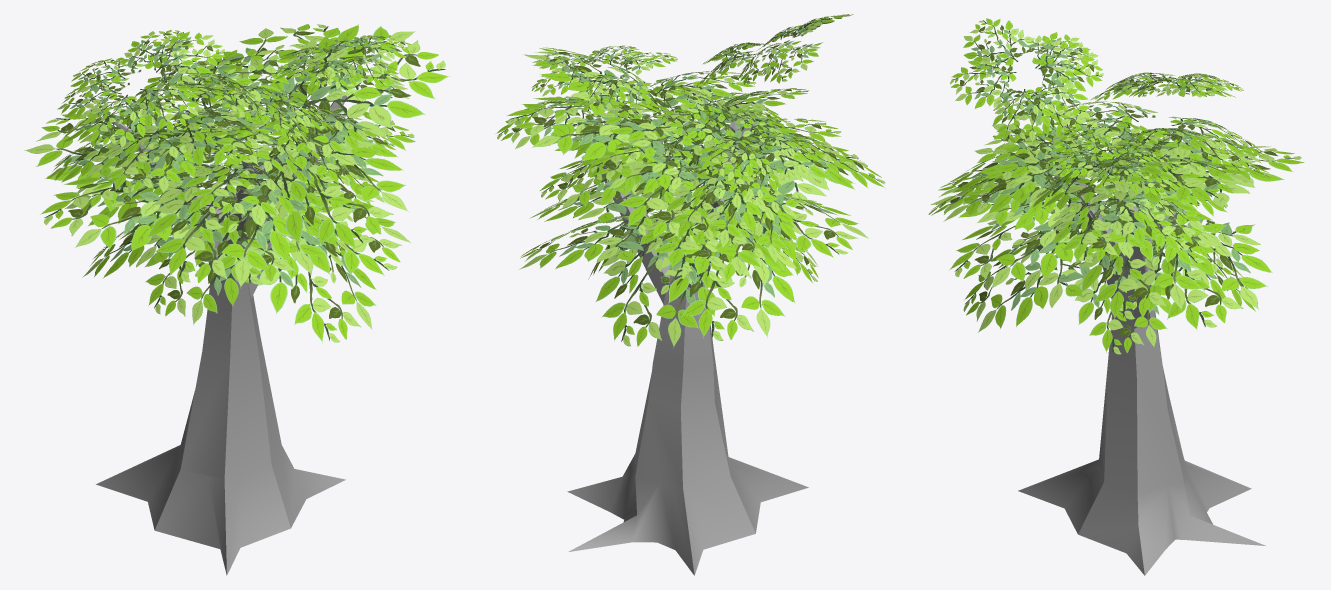
Rendered from TreeType1.fbx.
3 renders of one model, left to right at view 1: azimuth 30°, elevation 25°; view 2: azimuth 150°, elevation 25°; view 3: azimuth 270°, elevation 25°, orthographic. The views are drawn at different scales.
Parts seen in each view (by area): view 1: pPlane17, pCylinder6; view 2: pPlane17, pCylinder6; view 3: pPlane17, pCylinder6.
Boxes of the visible parts, x1,y1,x2,y2 form: pPlane17: (24, 24, 450, 343); pCylinder6: (96, 95, 347, 575); pPlane17: (496, 14, 885, 348); pCylinder6: (567, 105, 808, 575); pPlane17: (928, 18, 1304, 354); pCylinder6: (1018, 135, 1265, 575).
Size of the model in its own units: 5.85 by 7.48 by 5.8.
